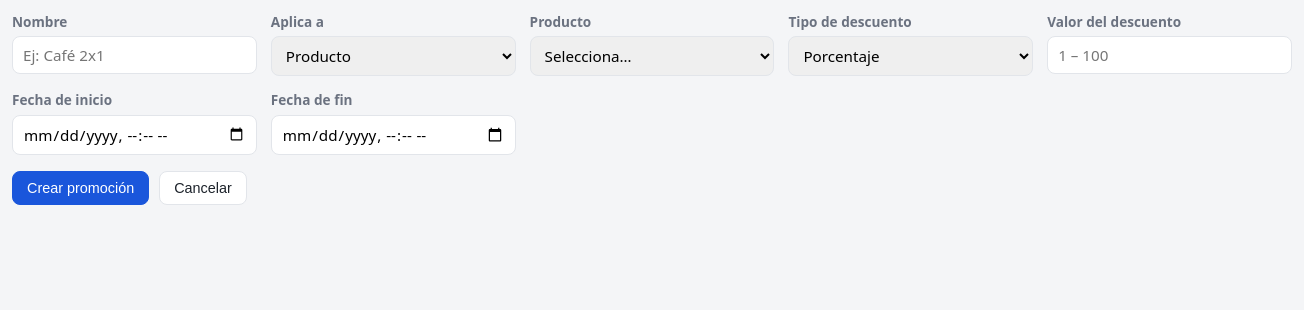
Scenario: PromotionForm › rechaza porcentaje fuera de 1–100
Select "Porcentaje" in the dropdown labelled "Tipo de descuento": (911, 56) [788,36,1033,76]
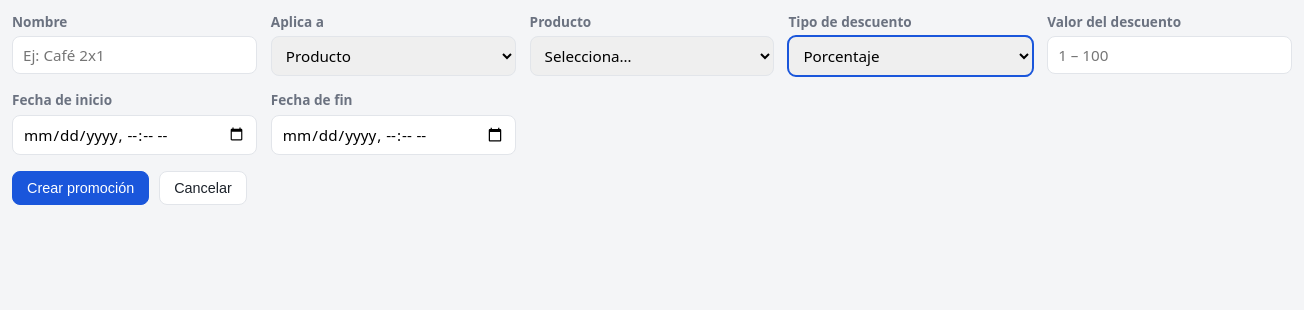
In the number field labelled "Valor del descuento": (1170, 55) [1047,36,1292,74], type "150"
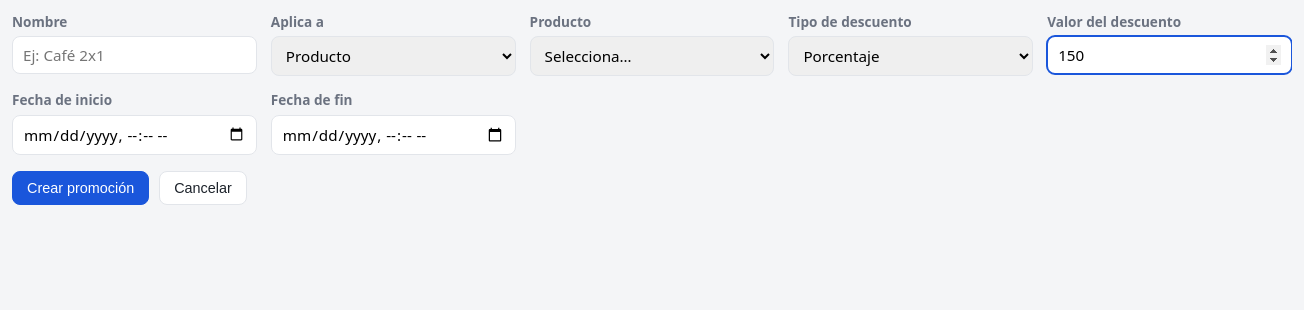
Click the button "Crear promoción": (81, 188) [12,171,149,205]
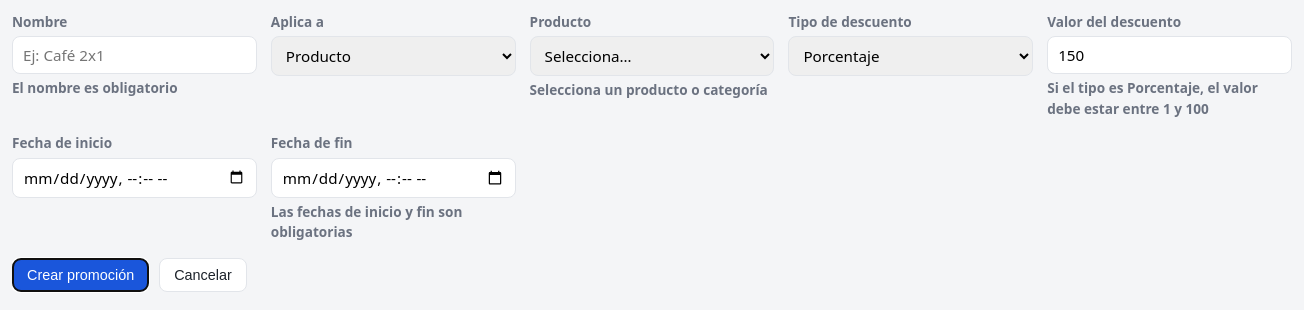
Check: the text "Si el tipo es Porcentaje, el valor debe estar entre 1 y 100" is shown, box [1047,78,1292,119]
